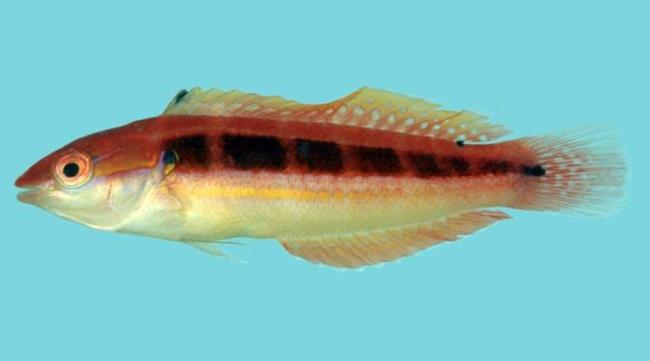fish: (14, 85, 627, 270)
